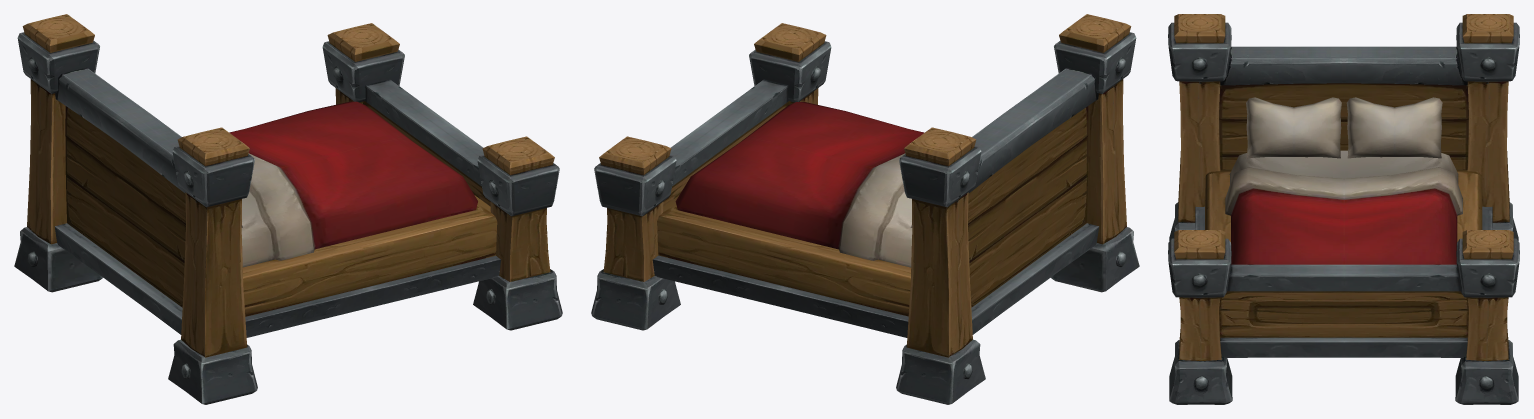
3 views of the same model, side by side, from view 1: azimuth 30°, elevation 25°; view 2: azimuth 150°, elevation 25°; view 3: azimuth 270°, elevation 25° (orthographic). The views are drawn at different scales.
Size of the model in its own units: 3.96 by 2.57 by 3.54.
Materials: 2 (2 with a texture image).
